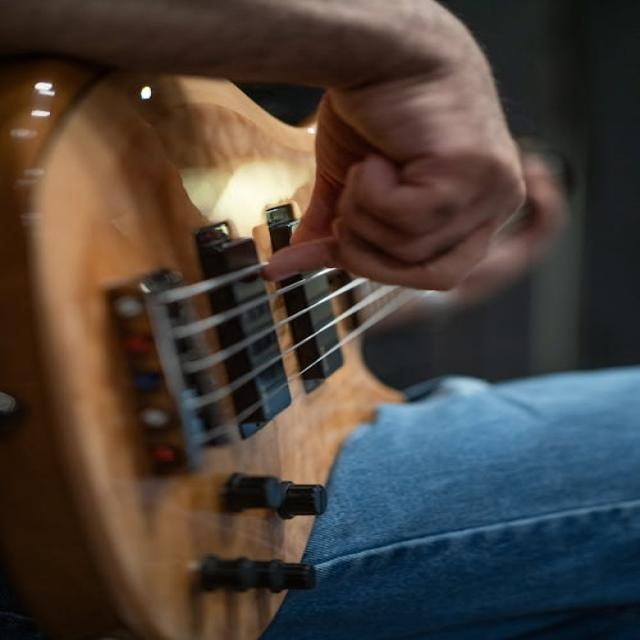bass: (0, 61, 442, 639)
